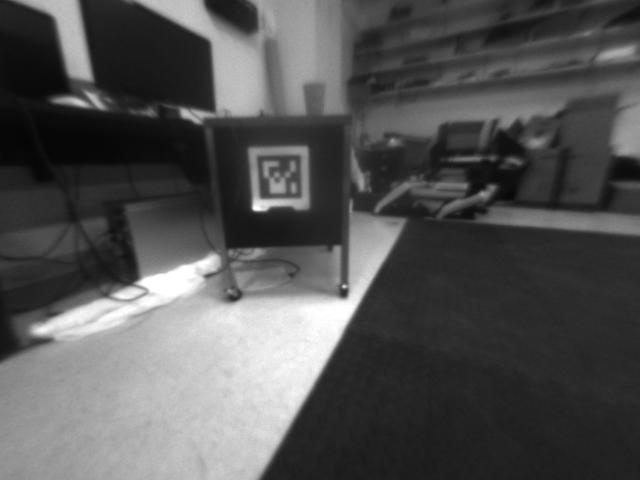coffee_cup: (299, 82, 329, 114)
